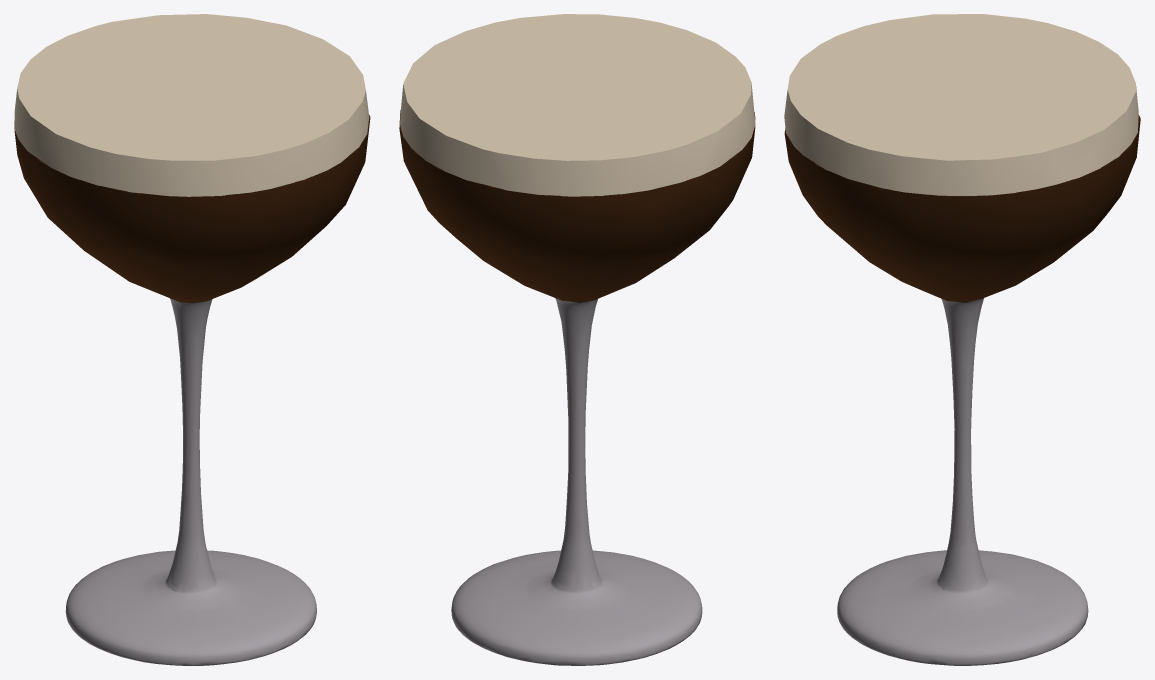
File: fertigeinglas.glb
3 renders of one model, left to right at view 1: azimuth 30°, elevation 25°; view 2: azimuth 150°, elevation 25°; view 3: azimuth 270°, elevation 25°, orthographic.
Visible parts, largest first — view 1: Cube.004, Cube.001, Cube.003; view 2: Cube.004, Cube.001, Cube.003; view 3: Cube.004, Cube.001, Cube.003.
Boxes of the visible parts, box(x1,y1,x2,y2) form: Cube.004: box(14, 14, 369, 196); Cube.001: box(65, 298, 316, 665); Cube.003: box(14, 115, 370, 303); Cube.004: box(400, 14, 755, 196); Cube.001: box(451, 298, 702, 665); Cube.003: box(399, 110, 755, 303); Cube.004: box(784, 14, 1138, 195); Cube.001: box(837, 298, 1088, 665); Cube.003: box(784, 115, 1140, 302).
Size of the model in its own units: 2.96 by 4.82 by 2.95.
